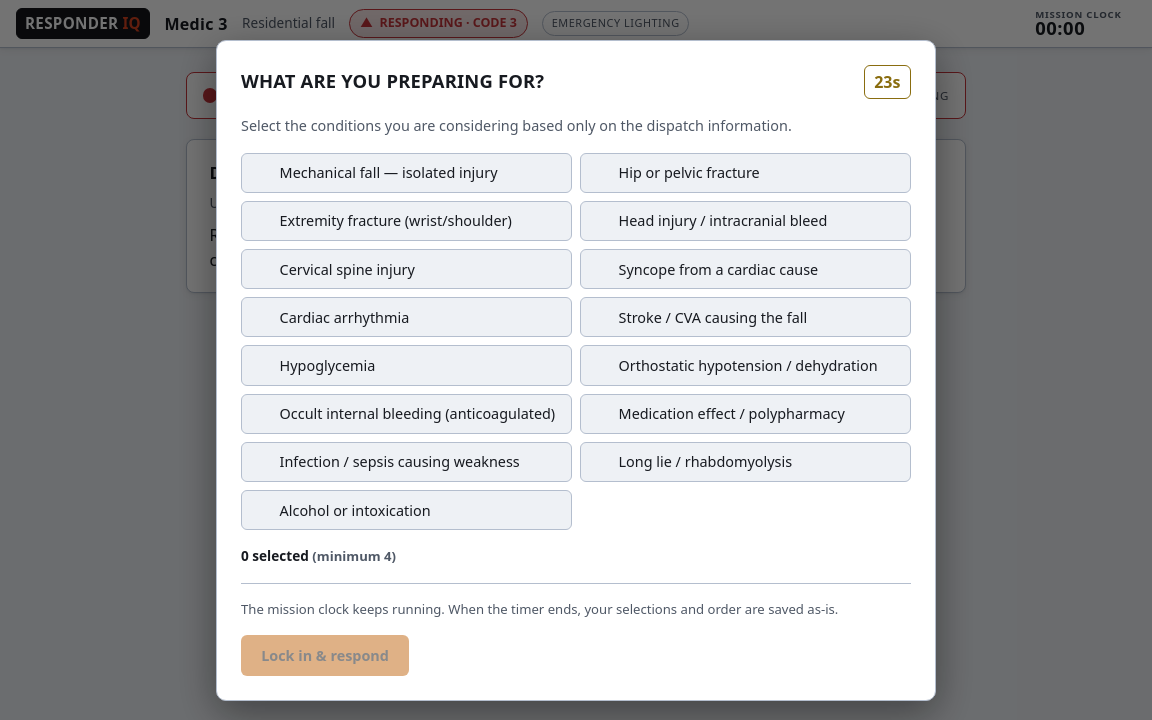
Test: OperationalSim — timers time out and save partial work (§8, fix #1) › timing out with fewer than four selections still proceeds (partial work saved)
Click the button "Mechanical fall — isolated injury": click(406, 173) x1=241 y1=153 x2=572 y2=193
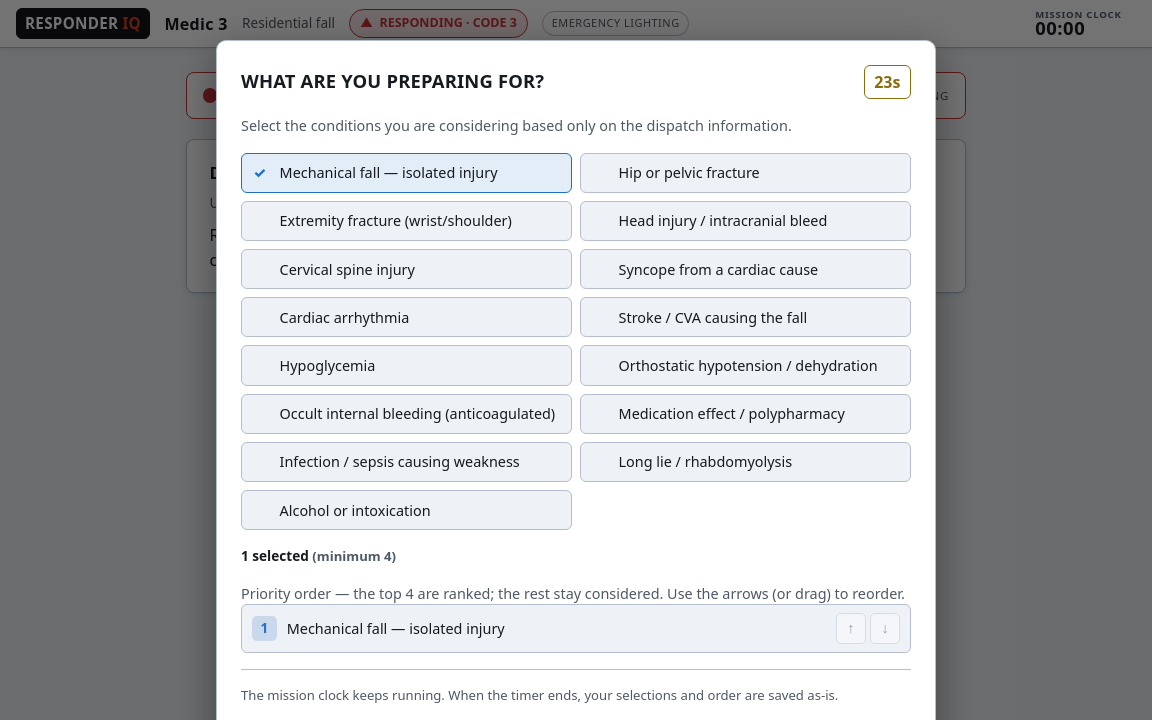
Click the button "Hip or pelvic fracture": click(746, 173) x1=580 y1=153 x2=911 y2=193
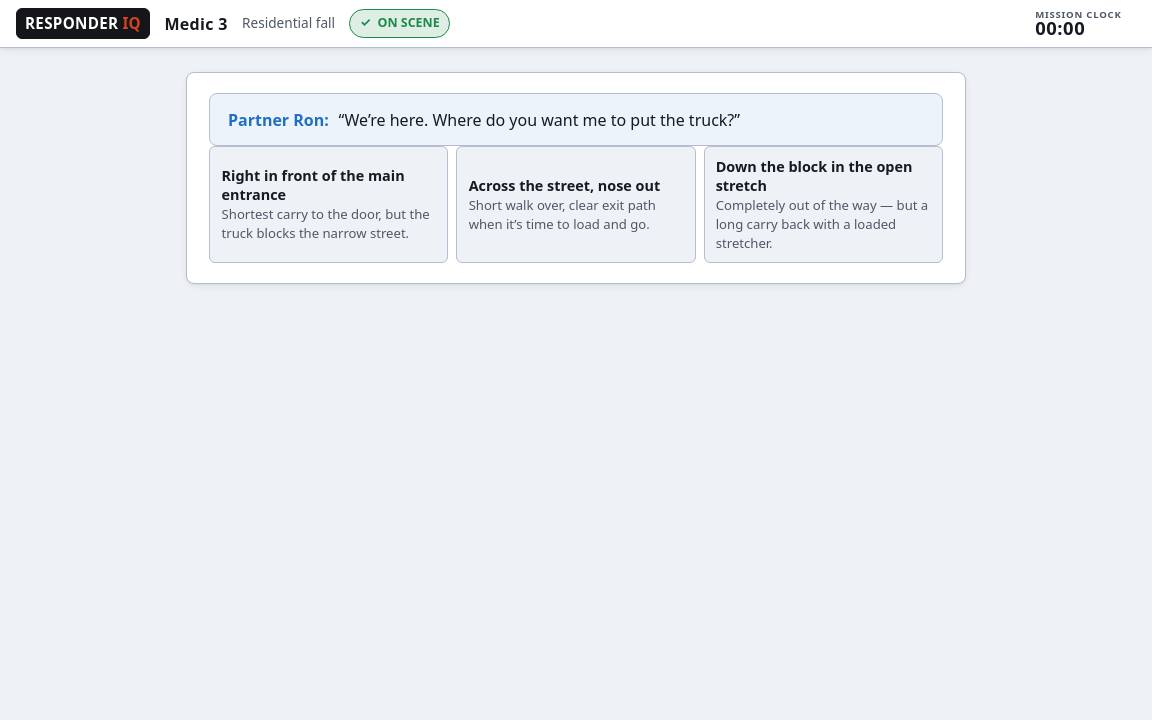
Result: the heading "WHAT ARE YOU PREPARING FOR" is gone
Result: the text "ON SCENE" is shown at x1=378 y1=14 x2=440 y2=33
